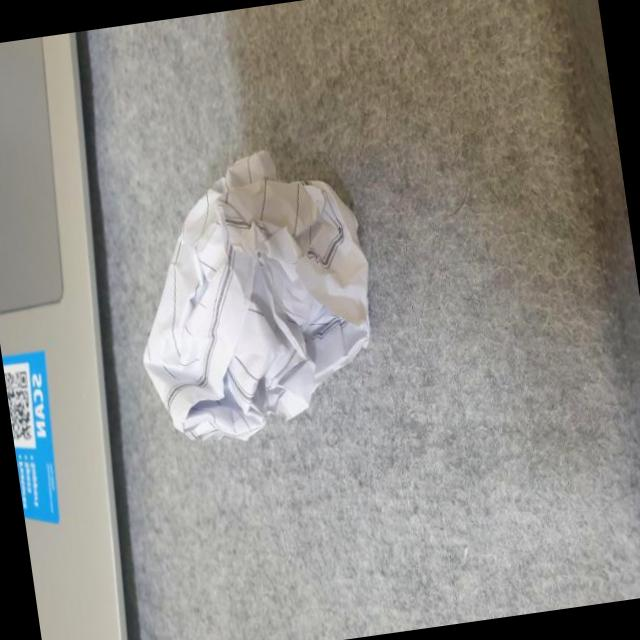cardboard paper: (142, 149, 367, 437)
